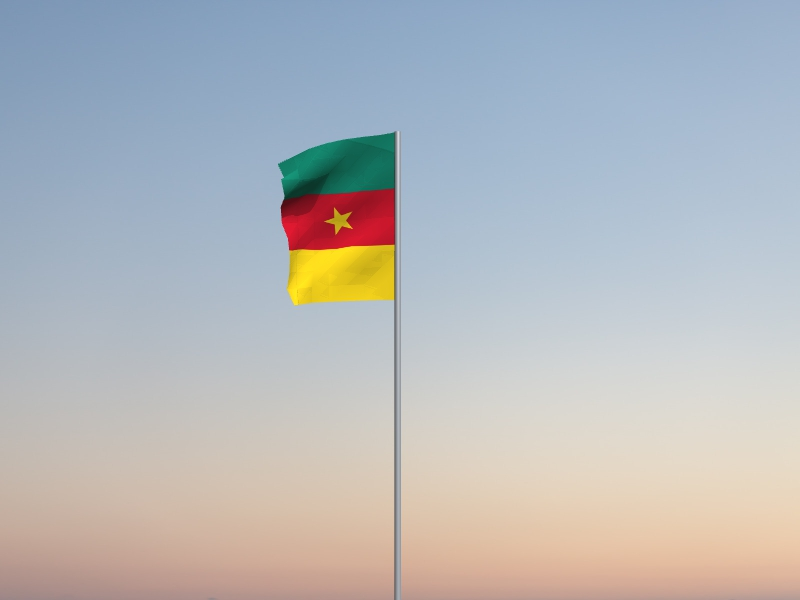cm: (278, 133, 395, 307)
